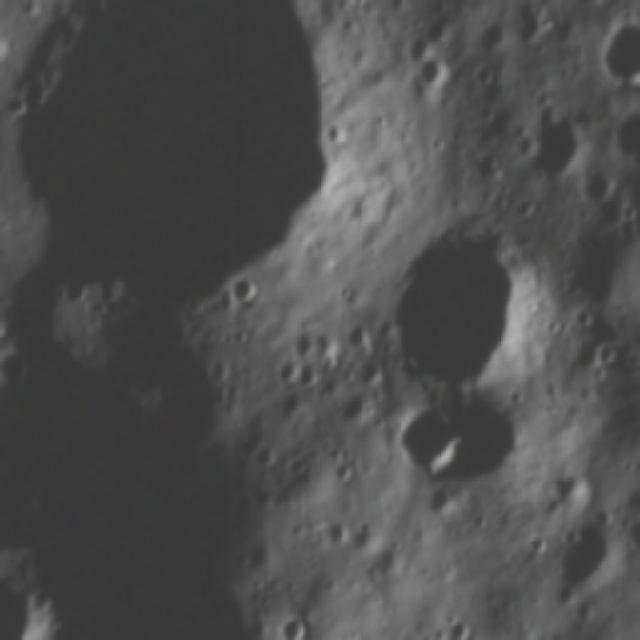crater: (226, 265, 263, 317)
